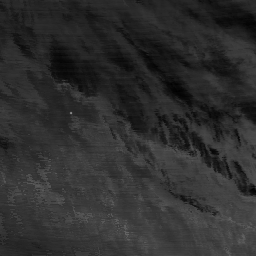Target: (67, 109, 73, 116)
